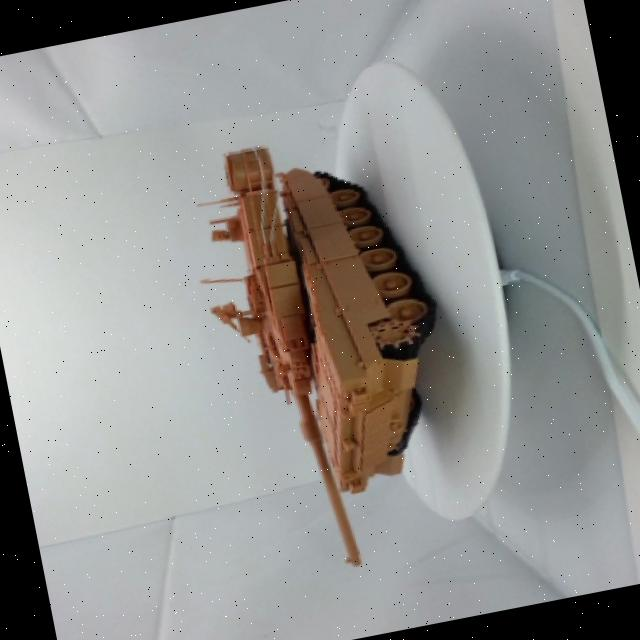korea tank: (153, 114, 484, 592)
